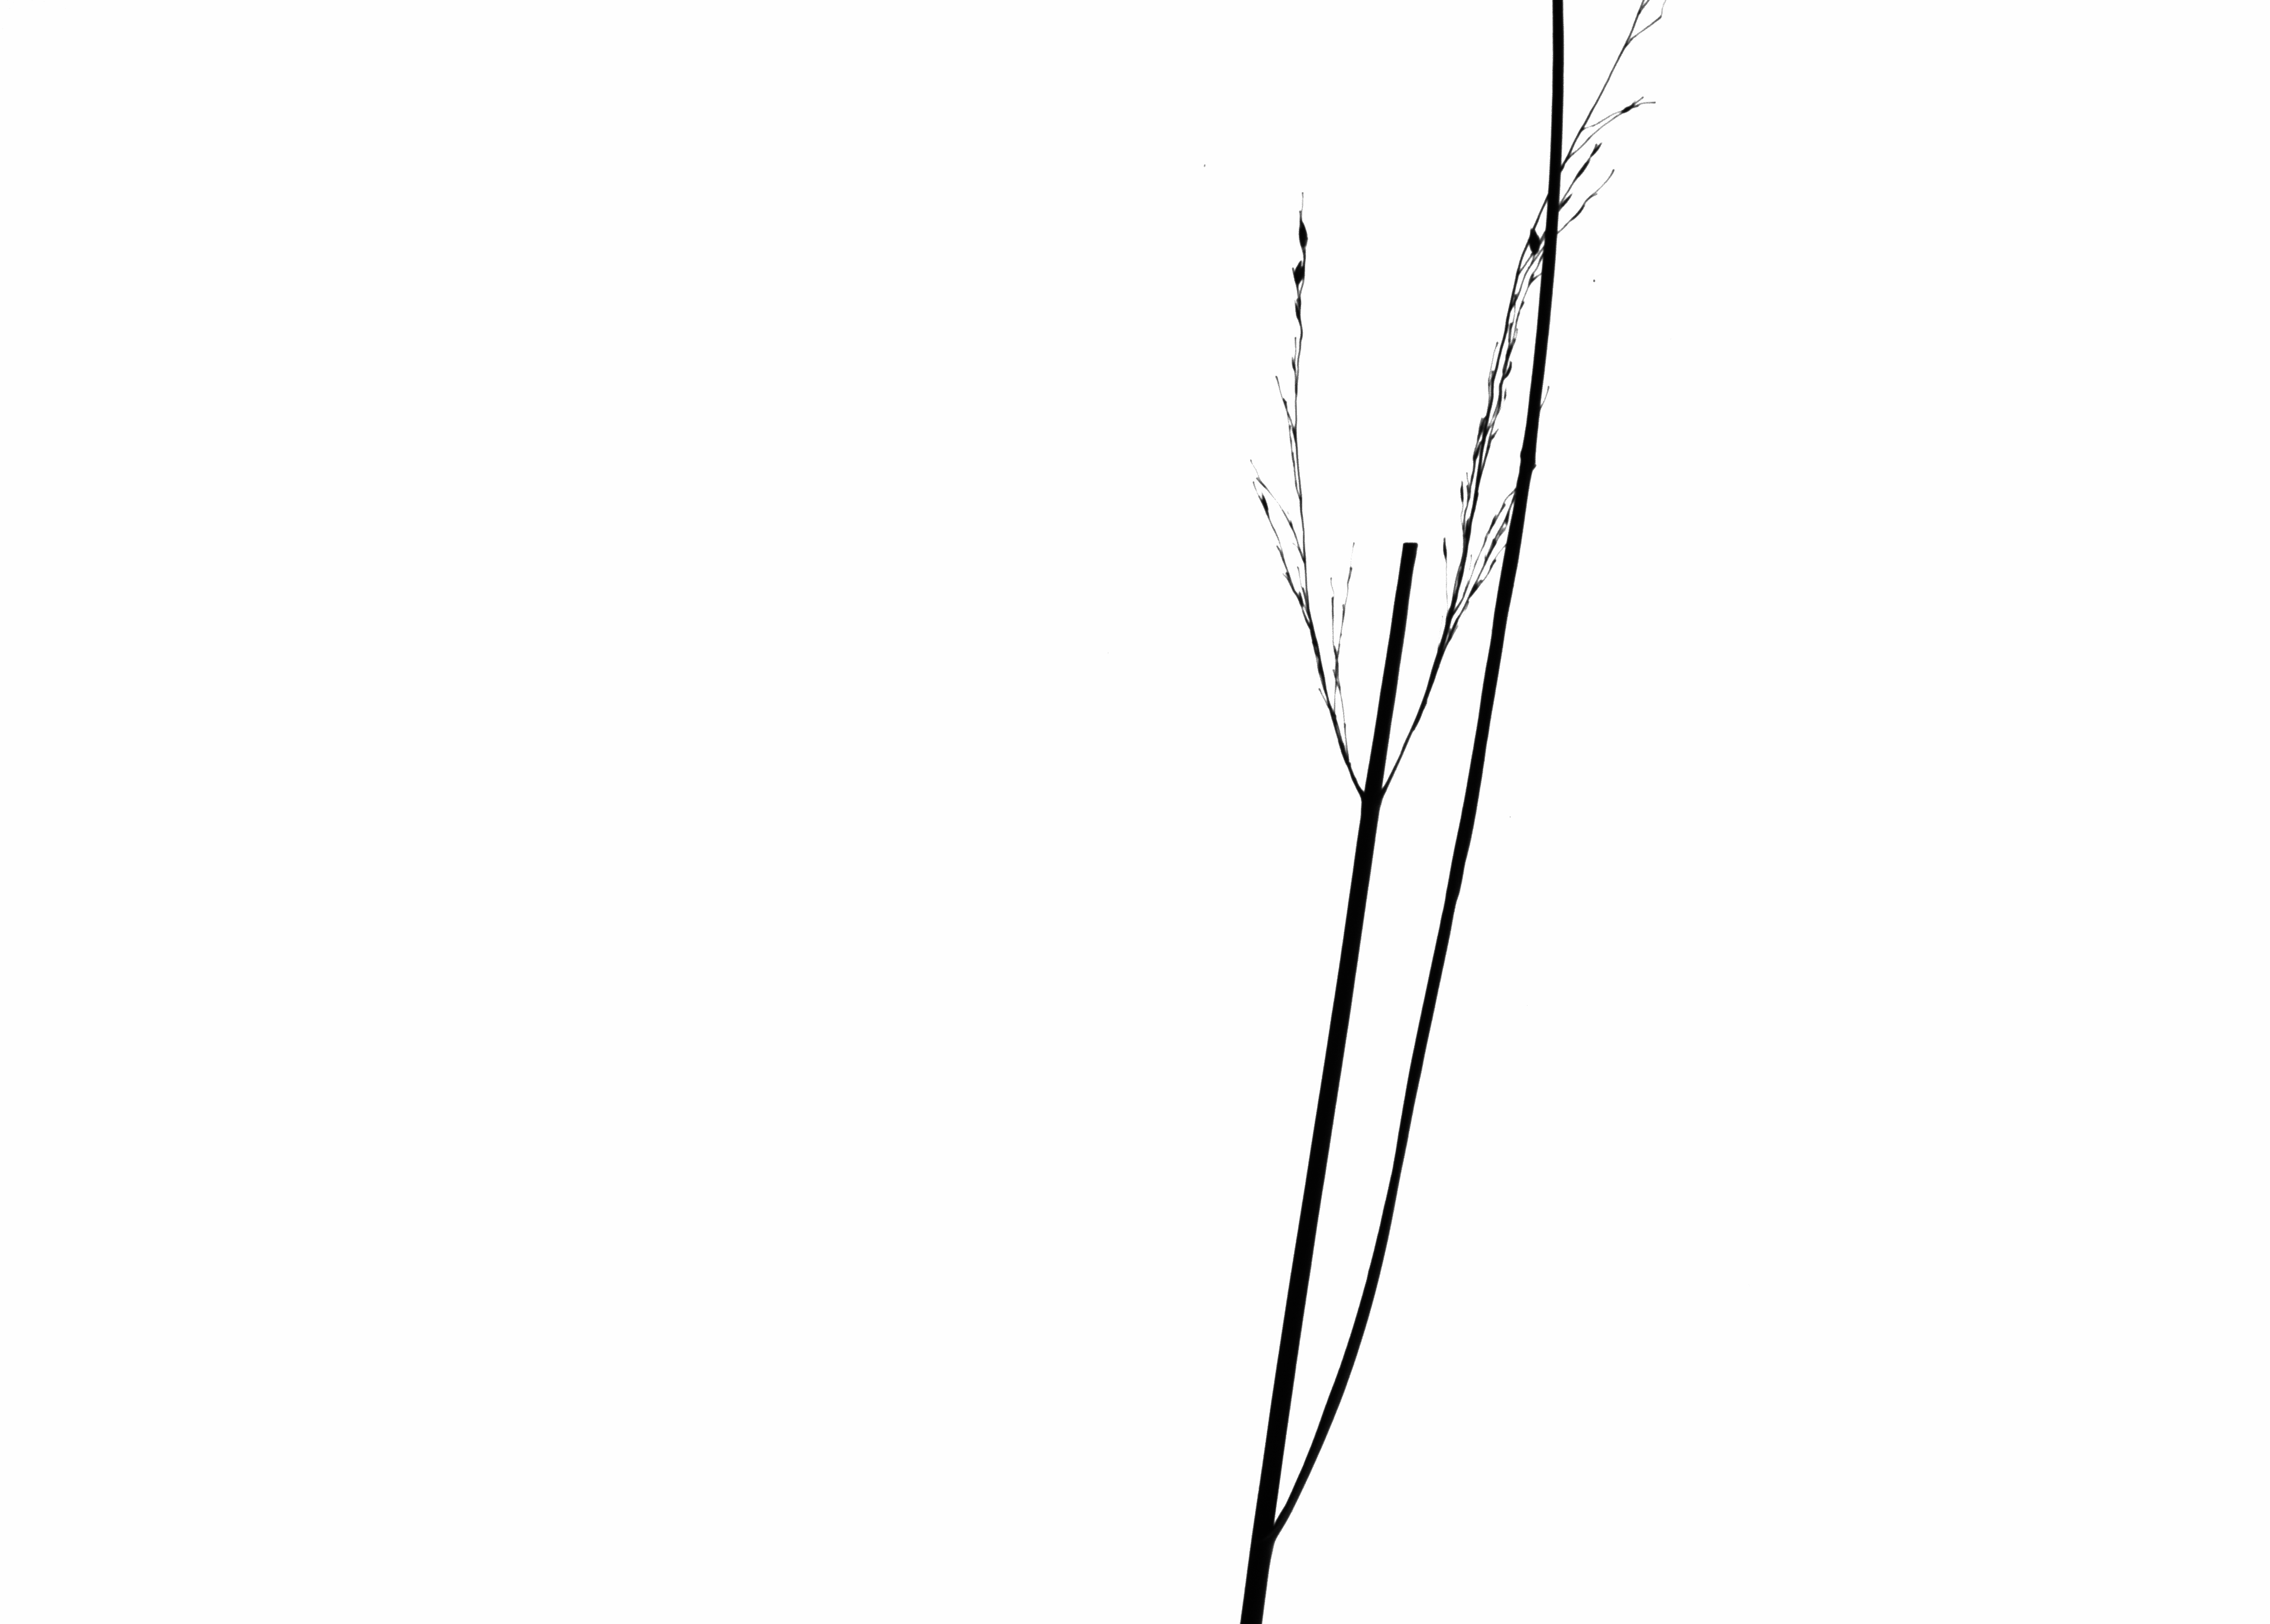seed: (1287, 213, 1322, 250), (1521, 221, 1546, 258), (1284, 257, 1310, 288)
